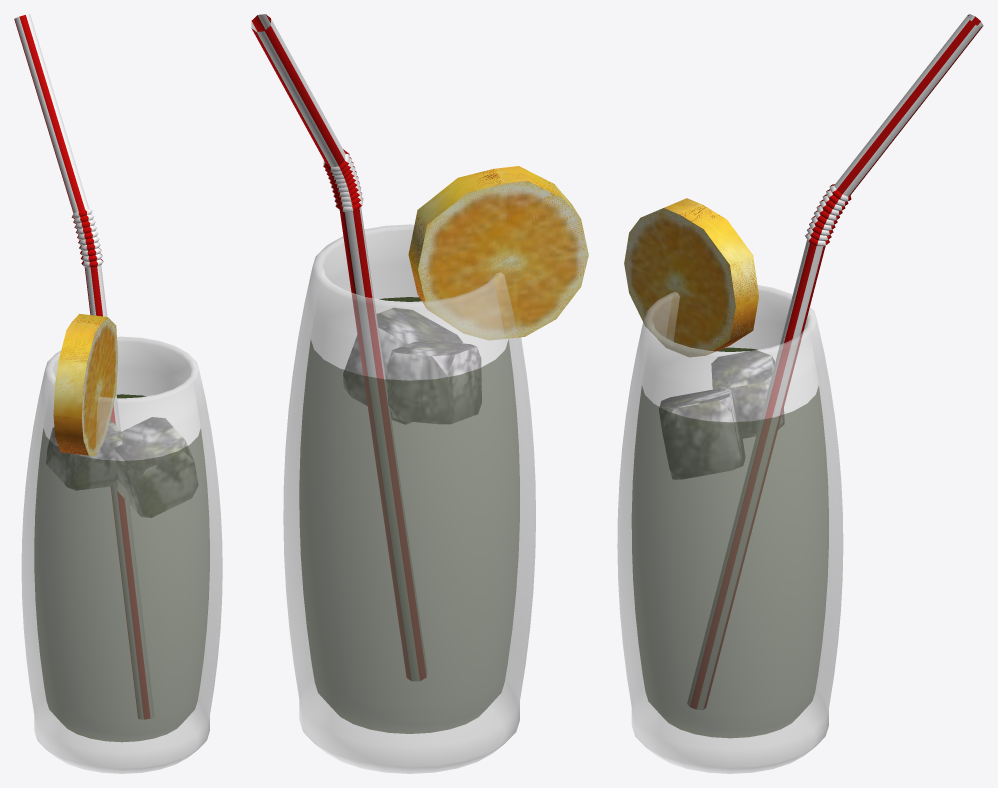
3 renders of one model, left to right at view 1: azimuth 30°, elevation 25°; view 2: azimuth 150°, elevation 25°; view 3: azimuth 270°, elevation 25°, orthographic. The views are drawn at different scales.
Parts seen in each view (by area): view 1: copo (×3), ice (×2), tubo (×6), group_0 (×2); view 2: copo (×3), group_0 (×2), tubo (×7), ice (×2); view 3: copo (×3), group_0 (×2), tubo (×7), ice (×2).
Boxes of the visible parts, x1=… form: copo (×3): x1=21, y1=336, x2=222, y2=773; ice (×2): x1=46, y1=417, x2=198, y2=517; tubo (×6): x1=14, y1=14, x2=154, y2=719; group_0 (×2): x1=53, y1=314, x2=118, y2=456; copo (×3): x1=283, y1=224, x2=535, y2=773; group_0 (×2): x1=408, y1=166, x2=588, y2=340; tubo (×7): x1=256, y1=19, x2=427, y2=680; ice (×2): x1=343, y1=308, x2=481, y2=424; copo (×3): x1=617, y1=285, x2=843, y2=773; group_0 (×2): x1=624, y1=198, x2=758, y2=356; tubo (×7): x1=687, y1=15, x2=980, y2=709; ice (×2): x1=659, y1=350, x2=784, y2=479.
Size of the model in its own units: 2.99 by 4.38 by 9.62.
Materials: 8 (2 with a texture image).
